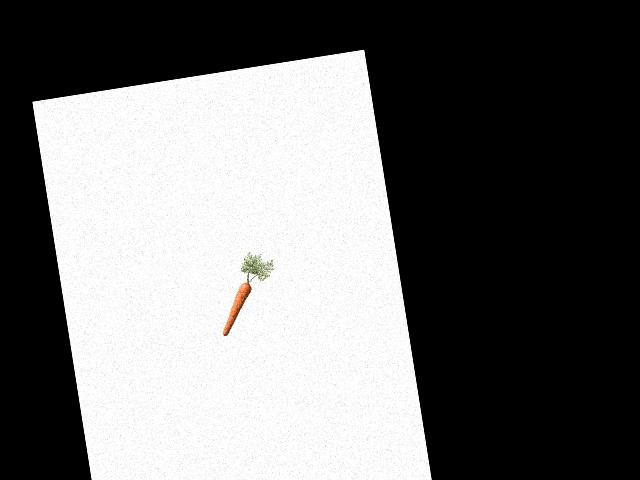carrot: (213, 276, 260, 338)
